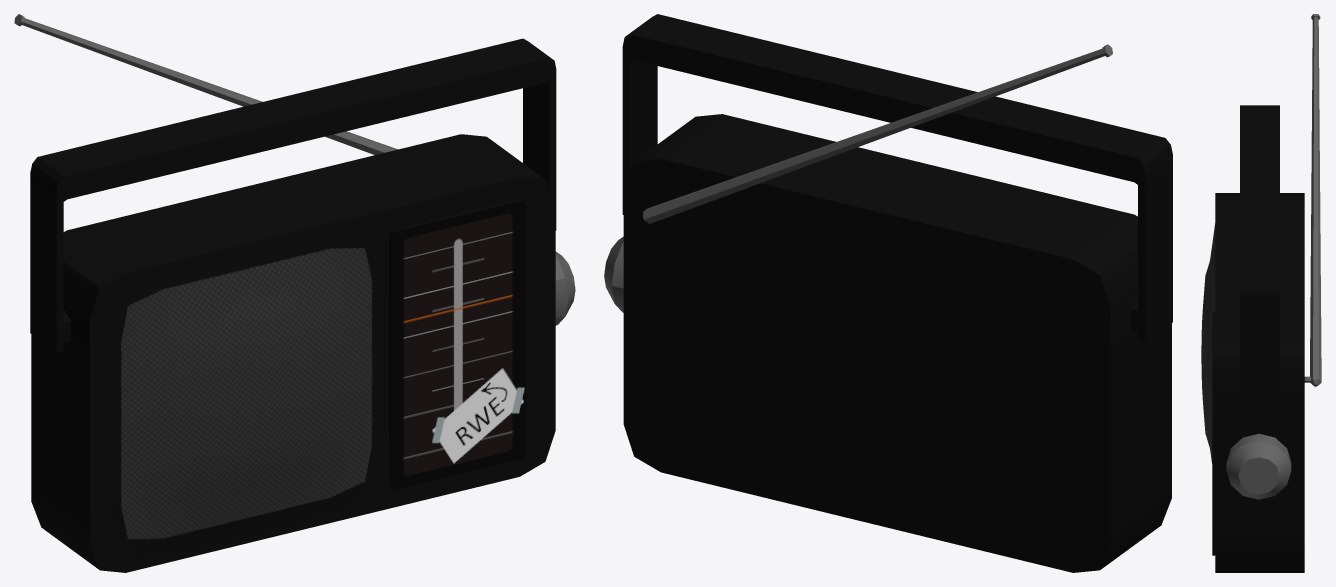
File: Radio.fbx
3 views of the same model, side by side, from view 1: azimuth 30°, elevation 25°; view 2: azimuth 150°, elevation 25°; view 3: azimuth 270°, elevation 25° (orthographic). The views are drawn at different scales.
Parts seen in each view (by area): view 1: Radio_LOD0; view 2: Radio_LOD0; view 3: Radio_LOD0.
Boxes of the visible parts, x1,y1,x2,y2 form: Radio_LOD0: (14, 14, 575, 572); Radio_LOD0: (604, 14, 1172, 572); Radio_LOD0: (1201, 14, 1321, 572).
Size of what is drawn, in the model's own units: 89.32 by 85.61 by 23.64.
